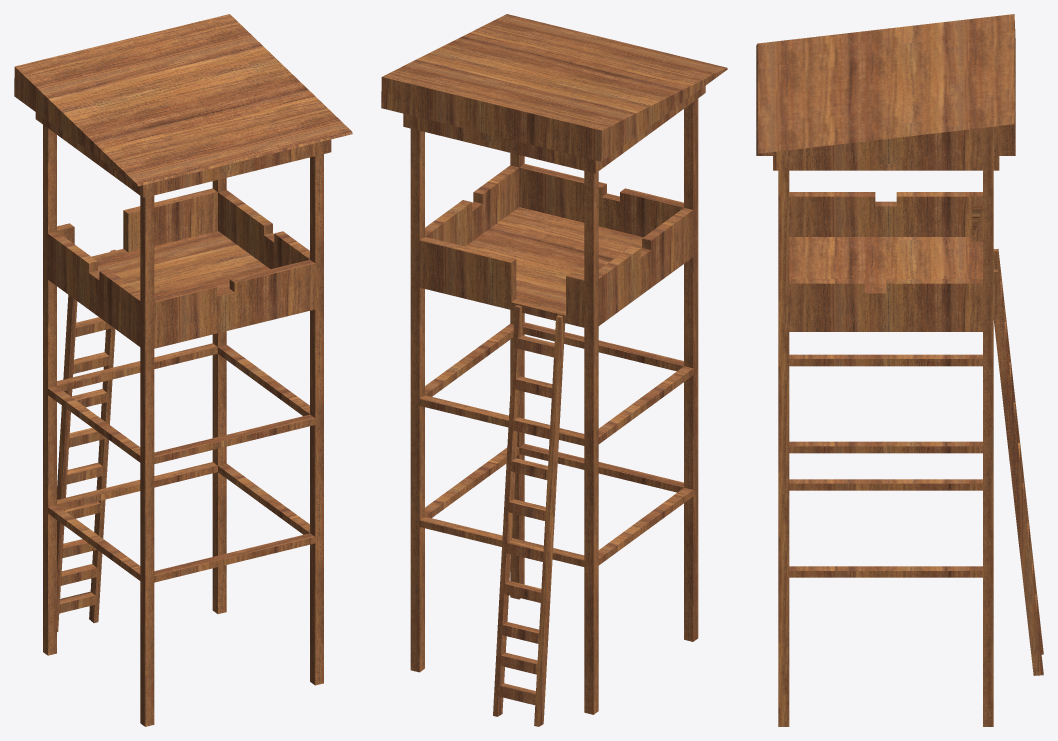
File: Tower.FBX
The picture shows the model from 3 angles, left to right: view 1: azimuth 30°, elevation 25°; view 2: azimuth 150°, elevation 25°; view 3: azimuth 270°, elevation 25°; orthographic projection. The views are drawn at different scales.
Visible parts, largest first — view 1: Guard Tower; view 2: Guard Tower; view 3: Guard Tower.
Part boxes in pixels (bbox=[...]): Guard Tower: bbox=[14, 14, 352, 726]; Guard Tower: bbox=[381, 14, 727, 726]; Guard Tower: bbox=[756, 14, 1043, 726].
Bounding box in the file's own units: 31.08 × 34.21 × 80.73.
1 material, 1 textured.
